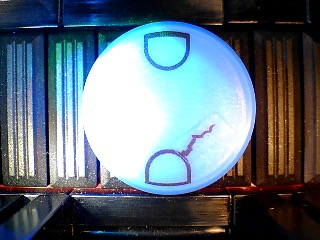CRACK: (80, 20, 257, 197)
